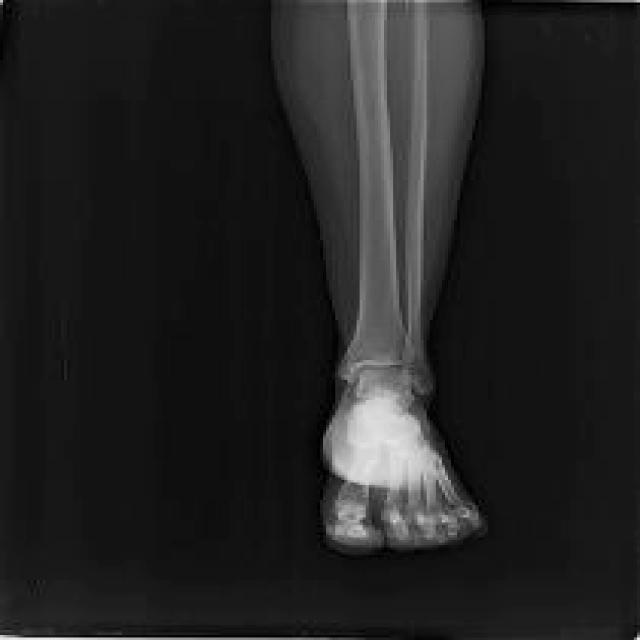normal: (330, 0, 479, 543)
